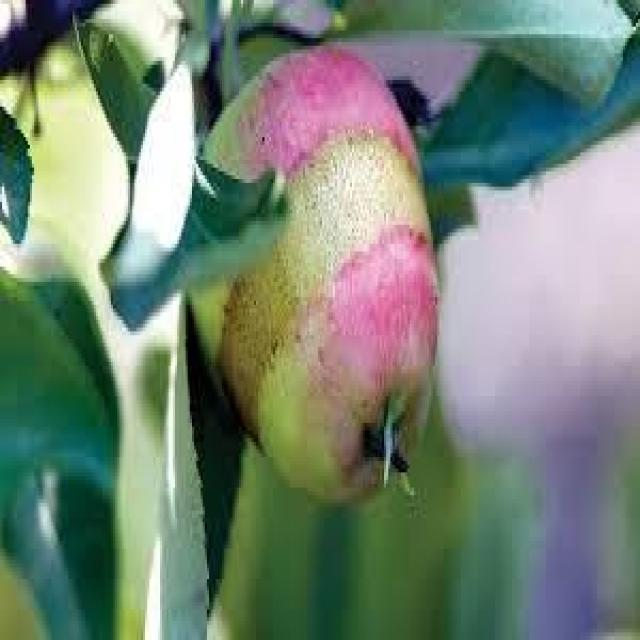maca: (184, 42, 442, 507)
